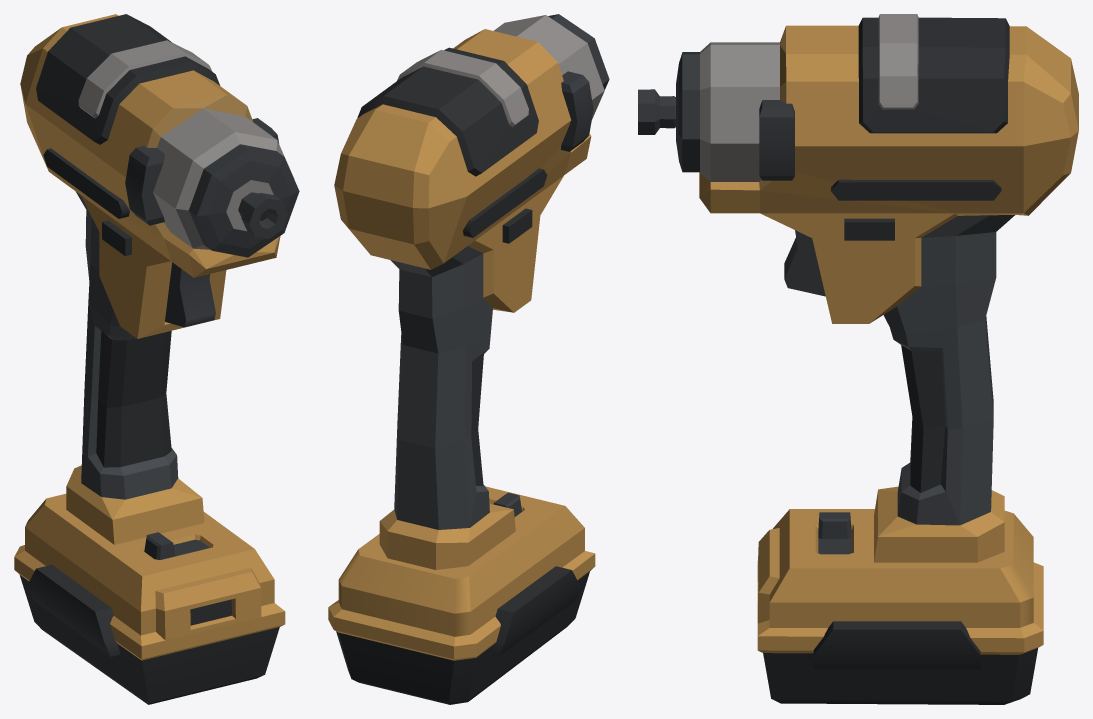
Rendered from SM_Tool_Impact_Driver_01.fbx.
The picture shows the model from 3 angles, left to right: view 1: azimuth 30°, elevation 25°; view 2: azimuth 150°, elevation 25°; view 3: azimuth 270°, elevation 25°; orthographic projection. The views are drawn at different scales.
Visible parts, largest first — view 1: SM_Tool_Impact_Driver_01, SM_Tool_Impact_Driver_01_Battery, SM_Tool_Impact_Driver_01_Trigger; view 2: SM_Tool_Impact_Driver_01, SM_Tool_Impact_Driver_01_Battery; view 3: SM_Tool_Impact_Driver_01, SM_Tool_Impact_Driver_01_Battery, SM_Tool_Impact_Driver_01_Trigger.
Boxes of the visible parts, x1,y1,x2,y2 form: SM_Tool_Impact_Driver_01: [20, 14, 299, 635]; SM_Tool_Impact_Driver_01_Battery: [14, 545, 285, 704]; SM_Tool_Impact_Driver_01_Trigger: [165, 262, 215, 327]; SM_Tool_Impact_Driver_01: [334, 14, 609, 636]; SM_Tool_Impact_Driver_01_Battery: [328, 551, 595, 704]; SM_Tool_Impact_Driver_01: [638, 14, 1078, 627]; SM_Tool_Impact_Driver_01_Battery: [757, 528, 1043, 704]; SM_Tool_Impact_Driver_01_Trigger: [784, 230, 825, 296].
Size of the model in its own units: 12.52 by 43.07 by 26.62.
